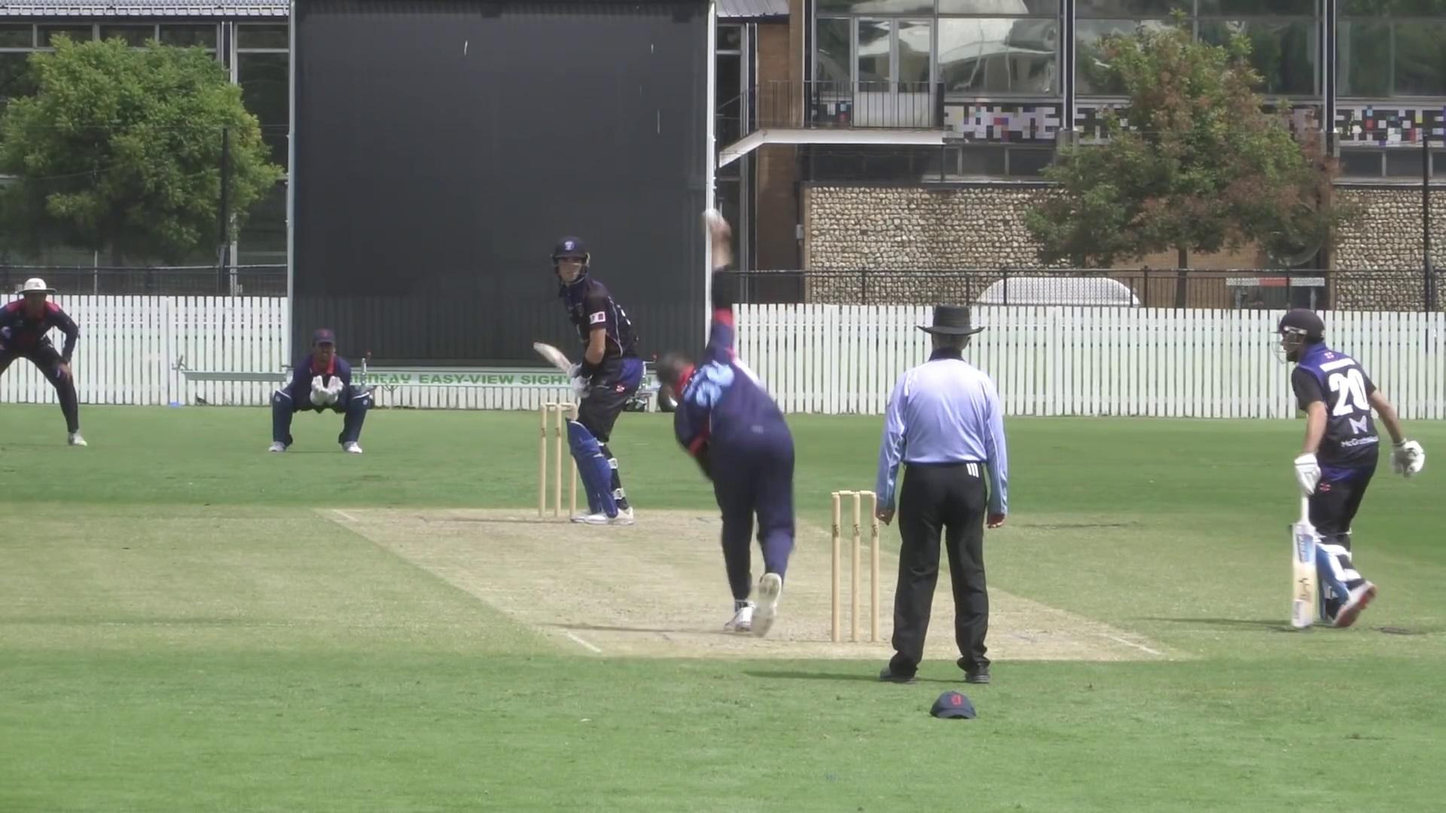ball: (697, 204, 730, 232)
